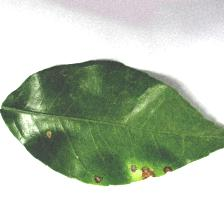canker: (36, 126, 177, 190)
